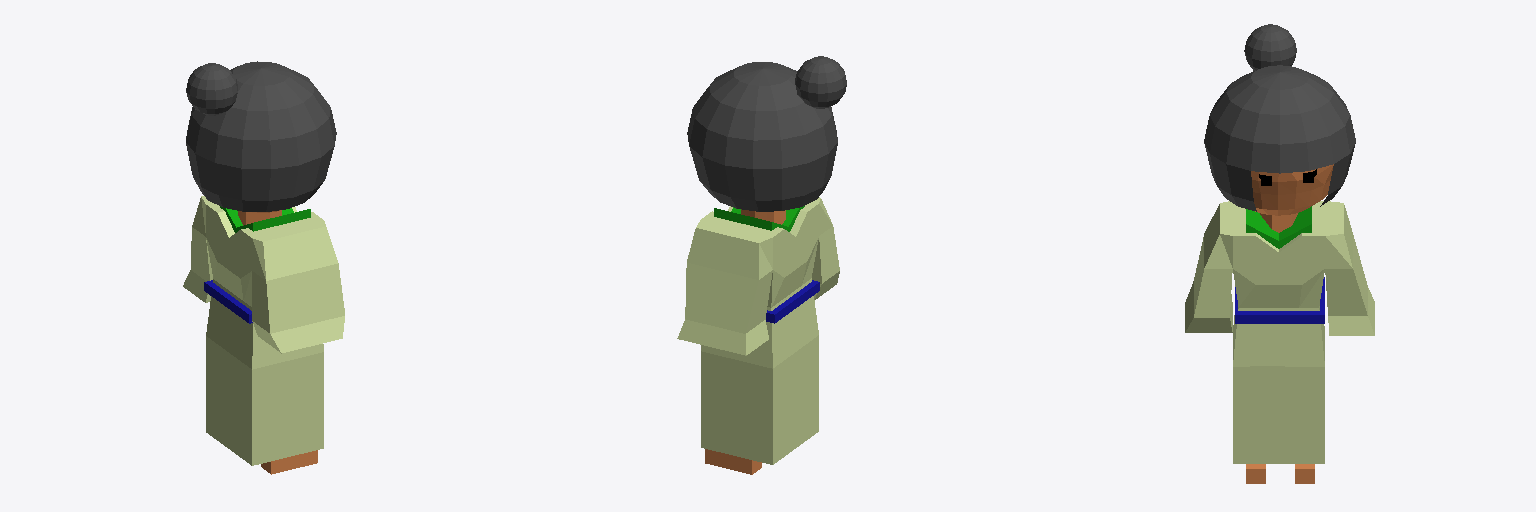
The model's file is nainai.obj.
3 views of the same model, side by side, from view 1: azimuth 30°, elevation 25°; view 2: azimuth 150°, elevation 25°; view 3: azimuth 270°, elevation 25° (orthographic).
Parts seen in each view (by area): view 1: Box004, Sphere003, Sphere004, Box003, Box007, Box005; view 2: Box004, Sphere003, Sphere004, Box003, Box008, Box005; view 3: Box004, Sphere003, Sphere001, Sphere004, Box005, Box003.
Part boxes in pixels (x1,y1,x2,y2): Box004: (183, 196, 344, 465); Sphere003: (186, 61, 336, 211); Sphere004: (186, 63, 237, 115); Box003: (220, 206, 310, 232); Box007: (261, 450, 317, 474); Box005: (204, 280, 252, 323); Box004: (677, 197, 839, 464); Sphere003: (687, 62, 837, 211); Sphere004: (795, 56, 846, 108); Box003: (714, 206, 804, 231); Box008: (705, 449, 761, 474); Box005: (766, 280, 819, 323); Box004: (1185, 201, 1374, 463); Sphere003: (1204, 65, 1355, 211); Sphere001: (1251, 164, 1333, 232); Sphere004: (1244, 24, 1296, 70); Box005: (1235, 277, 1324, 323); Box003: (1246, 206, 1311, 248).
Size of the model in its own units: 29.14 by 80.42 by 33.62.